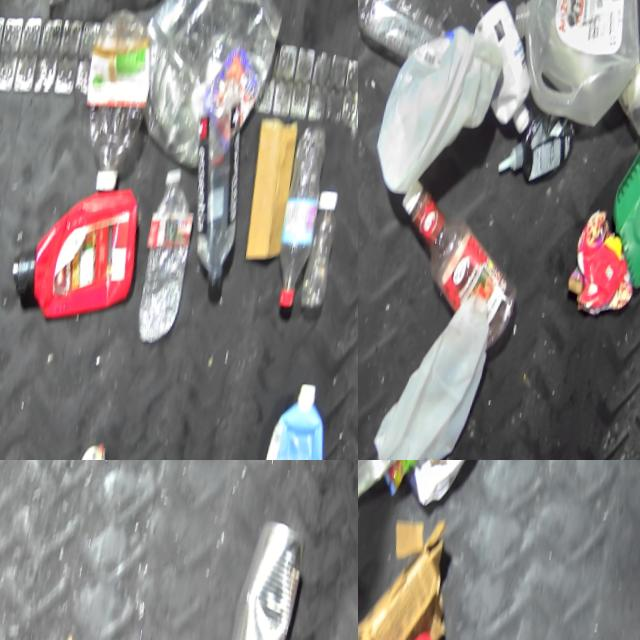can: (222, 517, 313, 640), (358, 460, 437, 519)
milk_jug: (370, 17, 510, 211), (370, 289, 499, 460), (497, 0, 640, 142)
non_white_jug: (7, 178, 149, 335), (254, 384, 341, 460)
plastic_bottle: (172, 97, 261, 309), (72, 7, 166, 201), (133, 169, 204, 350), (272, 128, 334, 316), (358, 0, 465, 81), (302, 195, 345, 318), (27, 0, 192, 26)
